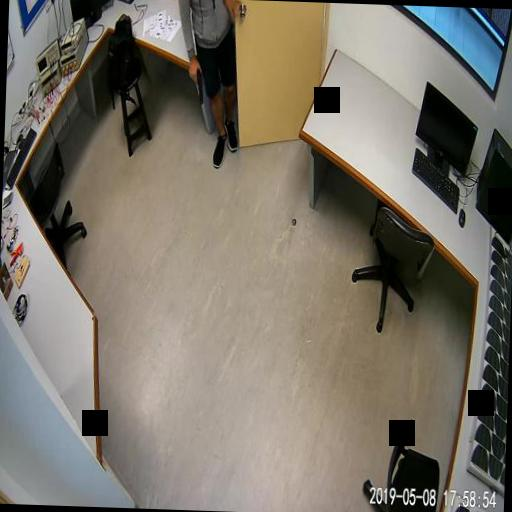Handgun: (188, 65, 202, 102)
